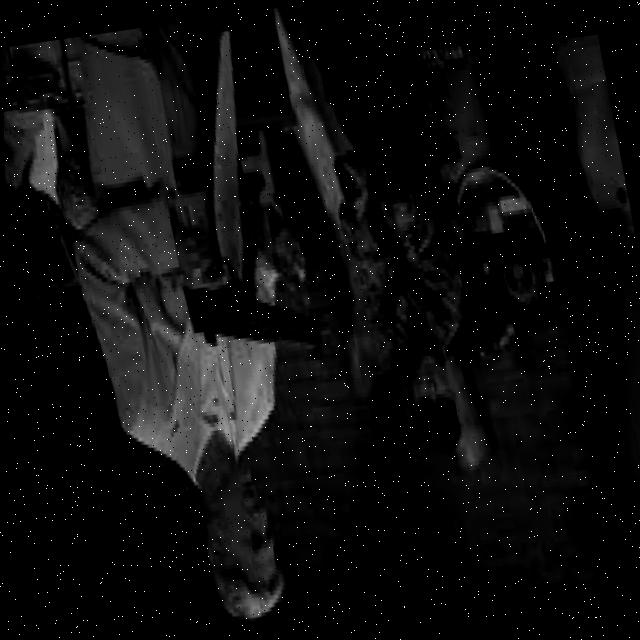firearm: (166, 188, 334, 378)
pistol: (331, 155, 358, 209)
